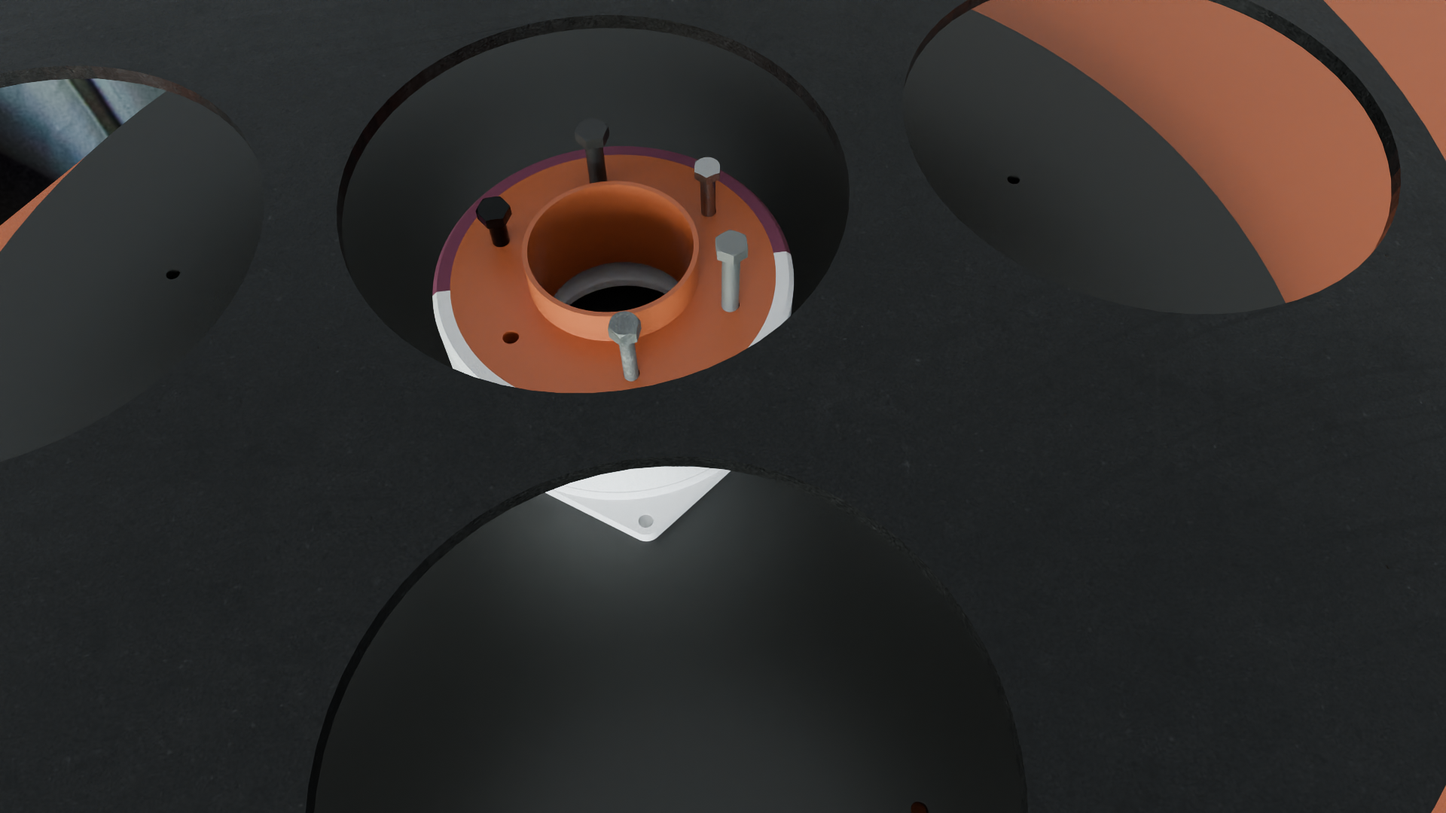bolt: (608, 311, 640, 339), (715, 230, 748, 257), (475, 196, 510, 221), (575, 117, 609, 142), (694, 157, 720, 178)
